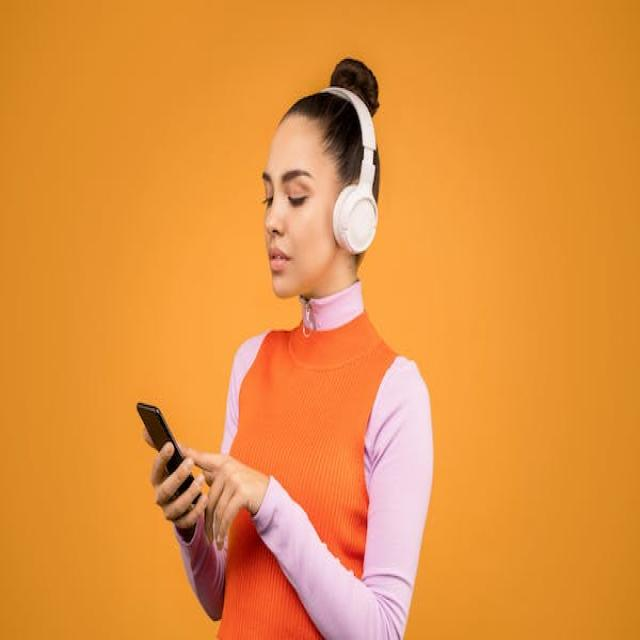Headphone: (322, 86, 380, 259)
